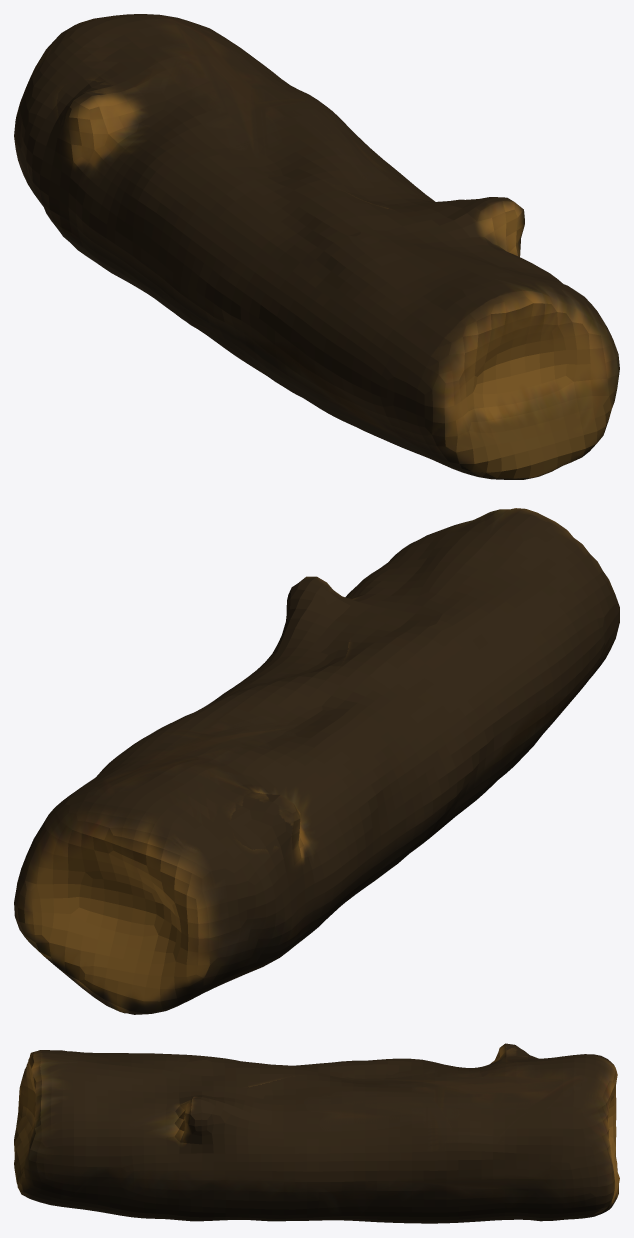
The model's file is Log.fbx.
The picture shows the model from 3 angles, top to bottom: view 1: azimuth 30°, elevation 25°; view 2: azimuth 150°, elevation 25°; view 3: azimuth 270°, elevation 25°; orthographic projection. The views are drawn at different scales.
Parts seen in each view (by area): view 1: Cube.017; view 2: Cube.017; view 3: Cube.017.
Boxes of the visible parts, x1,y1,x2,y2 form: Cube.017: (14,14,619,479); Cube.017: (14,508,619,1014); Cube.017: (14,1043,619,1223).
Bounding box in the file's own units: 266 × 220 × 800.
